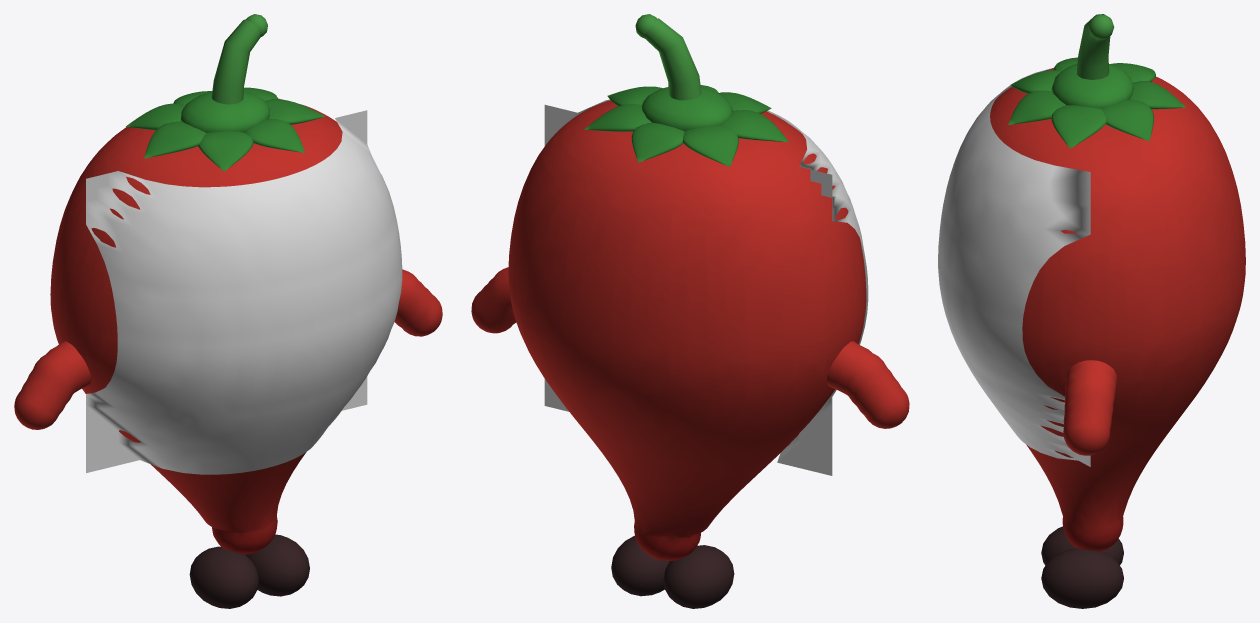
Rendered from folk2_chili_lod1.glb.
The picture shows the model from 3 angles, left to right: view 1: azimuth 30°, elevation 25°; view 2: azimuth 150°, elevation 25°; view 3: azimuth 270°, elevation 25°; orthographic projection. The views are drawn at different scales.
Parts seen in each view (by area): view 1: chili_face, chili_body, chili_arm_l, chili_foot_l, chili_foot_r, chili_arm_r; view 2: chili_body, chili_face, chili_arm_l, chili_foot_l, chili_foot_r, chili_arm_r; view 3: chili_body, chili_face, chili_arm_r, chili_foot_r, chili_foot_l.
Boxes of the visible parts, box(x1,y1,x2,y2) form: chili_face: box(86, 110, 402, 474); chili_body: box(50, 14, 342, 554); chili_arm_l: box(14, 341, 91, 429); chili_foot_l: box(189, 546, 258, 608); chili_foot_r: box(245, 534, 309, 596); chili_arm_r: box(394, 269, 442, 336); chili_body: box(508, 14, 866, 560); chili_face: box(544, 99, 868, 475); chili_arm_l: box(826, 341, 909, 428); chili_foot_l: box(663, 545, 734, 608); chili_foot_r: box(611, 535, 669, 596); chili_arm_r: box(471, 267, 516, 333); chili_body: box(990, 14, 1245, 551); chili_face: box(938, 67, 1090, 466); chili_arm_r: box(1063, 360, 1117, 455); chili_foot_r: box(1041, 548, 1123, 608); chili_foot_l: box(1041, 526, 1123, 565).
Size of the model in its own units: 0.9944 by 1.29 by 0.6147.
